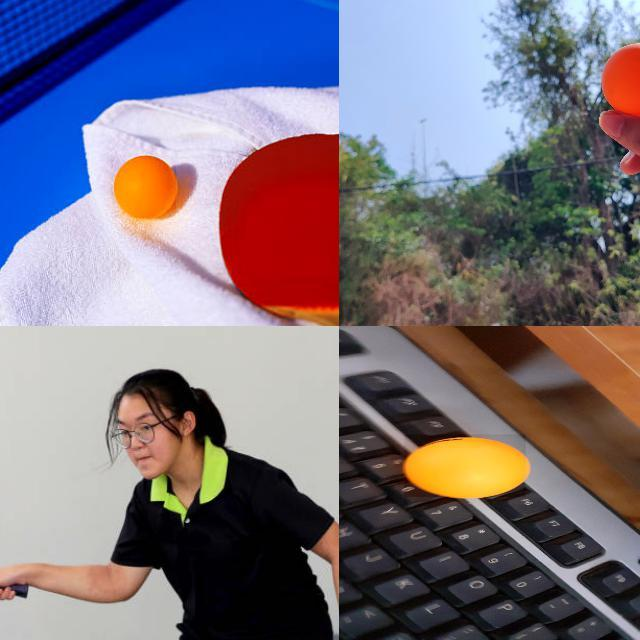ping-pong-ball: (404, 434, 526, 498), (111, 155, 177, 219), (601, 44, 639, 117)
